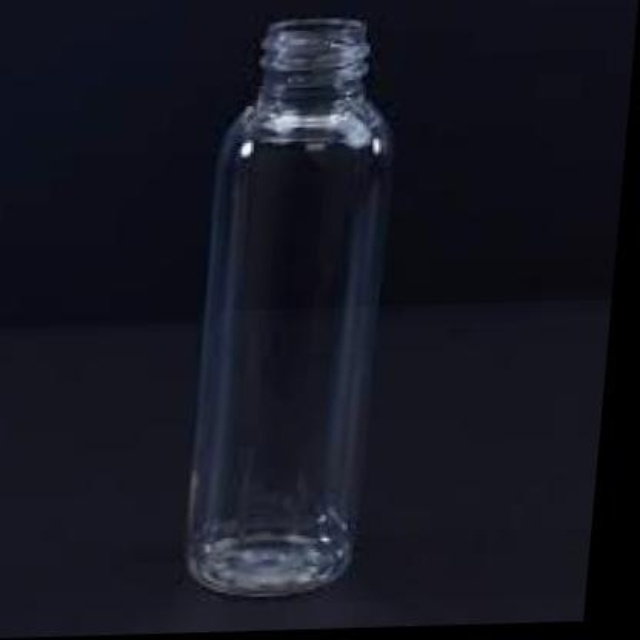trash: (188, 18, 391, 595)
